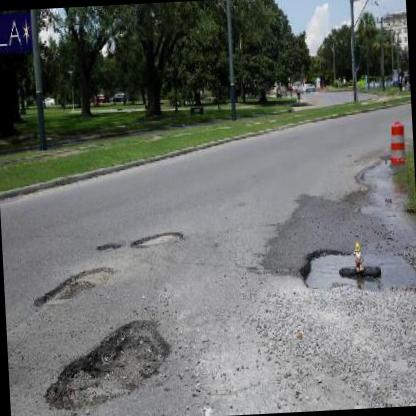pothole: (40, 316, 174, 416), (296, 239, 416, 299), (30, 263, 115, 309), (128, 230, 183, 246), (95, 240, 122, 252)
